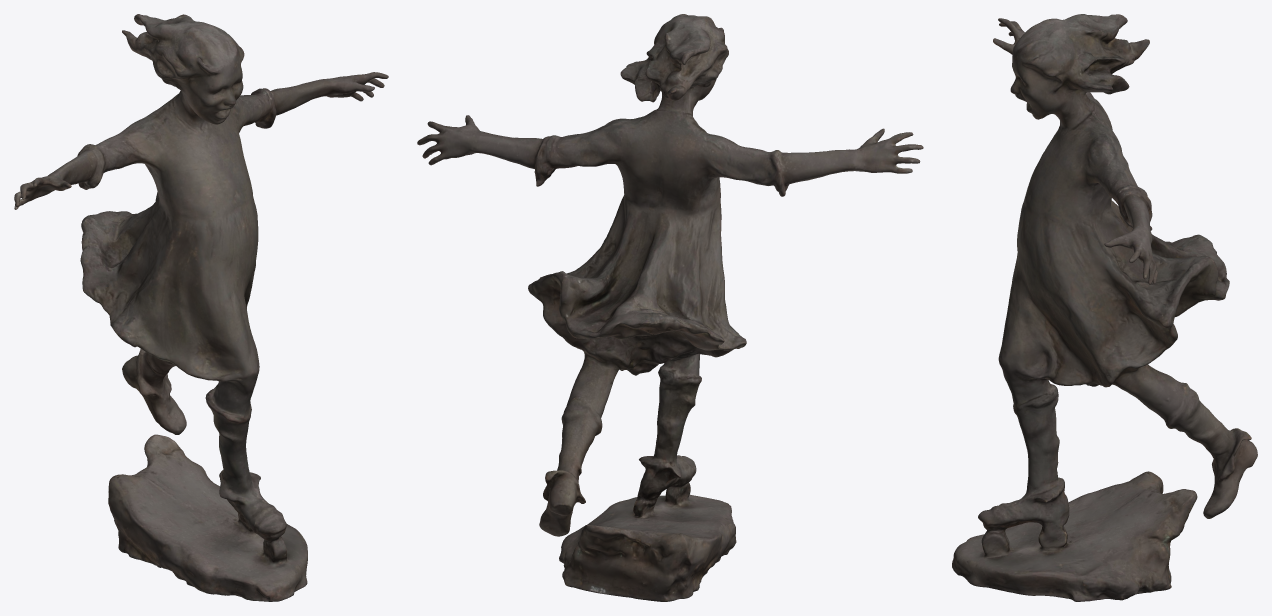
File: girl-skating.glb
3 views of the same model, side by side, from view 1: azimuth 30°, elevation 25°; view 2: azimuth 150°, elevation 25°; view 3: azimuth 270°, elevation 25° (orthographic). The views are drawn at different scales.
Size of the model in its own units: 0.2777 by 0.3311 by 0.172.
1 material, 1 textured.
